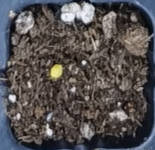pepper seed: (17, 24, 81, 102)
